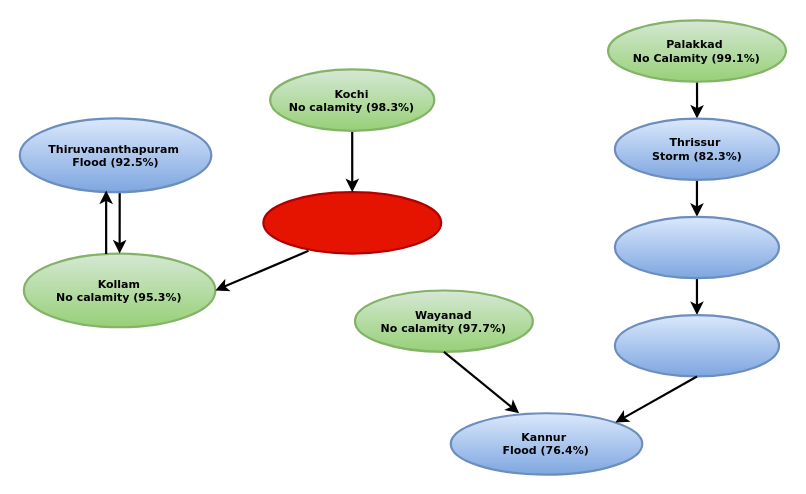
This 806x494 diagram has some shape labels left out. The centre of each missing label's shape, as x and y in pixels:
"Alappuzha Heatwave (68.7%)" goes at pixel 352 222.
"Kozhikode Storm (87.8%)" goes at pixel 696 345.
"Malappuram Flood (89.6%)" goes at pixel 696 247.
